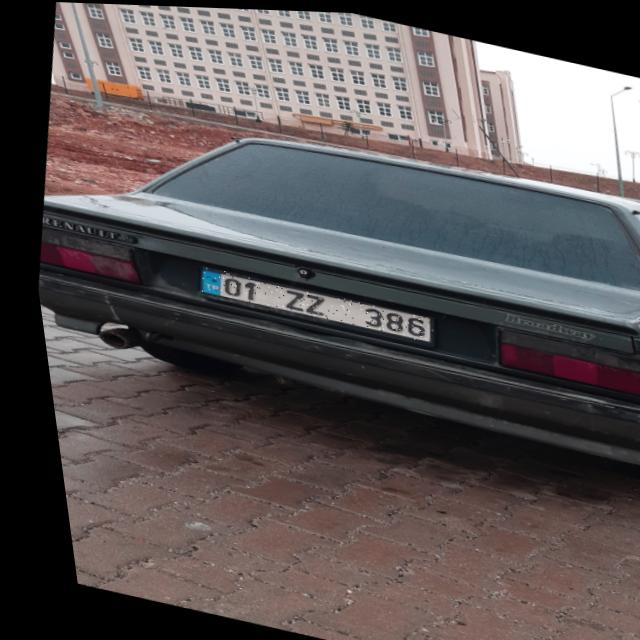license_plate: (190, 265, 428, 341)
